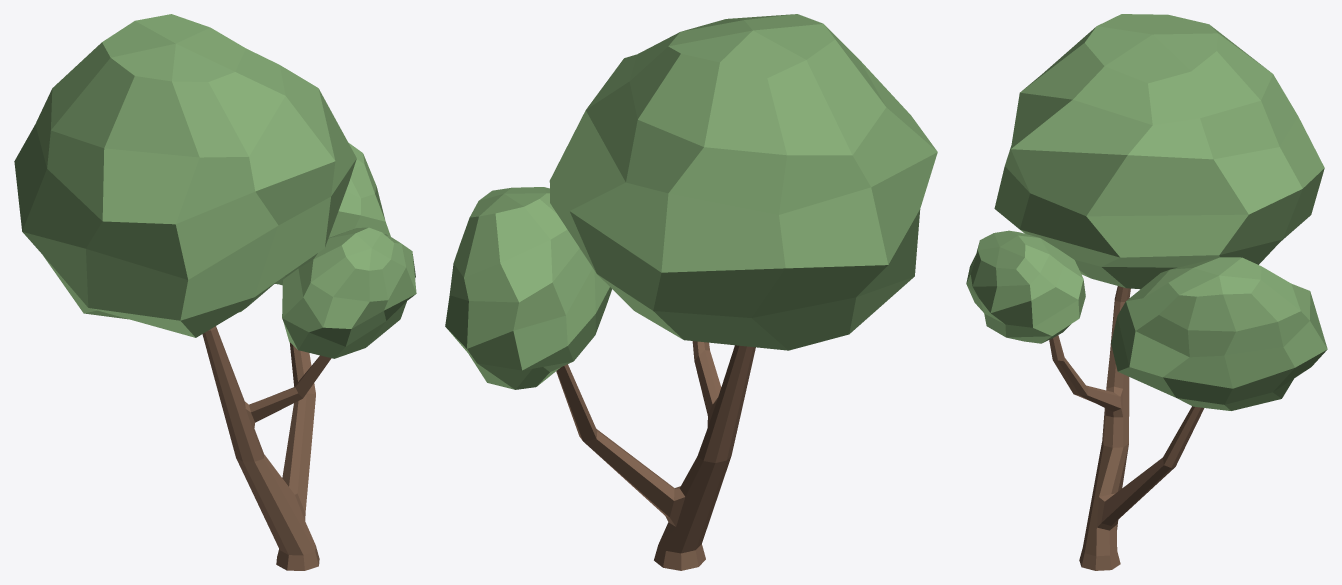
The model's file is Leaves_01.007.fbx.
3 views of the same model, side by side, from view 1: azimuth 30°, elevation 25°; view 2: azimuth 150°, elevation 25°; view 3: azimuth 270°, elevation 25° (orthographic). The views are drawn at different scales.
Parts seen in each view (by area): view 1: Leaves_01.007; view 2: Leaves_01.007; view 3: Leaves_01.007.
Boxes of the visible parts, <box> form: Leaves_01.007: <box>14,14,416,570</box>; Leaves_01.007: <box>445,14,937,570</box>; Leaves_01.007: <box>966,14,1327,570</box>.
Size of the model in its own units: 267 by 367 by 248.
